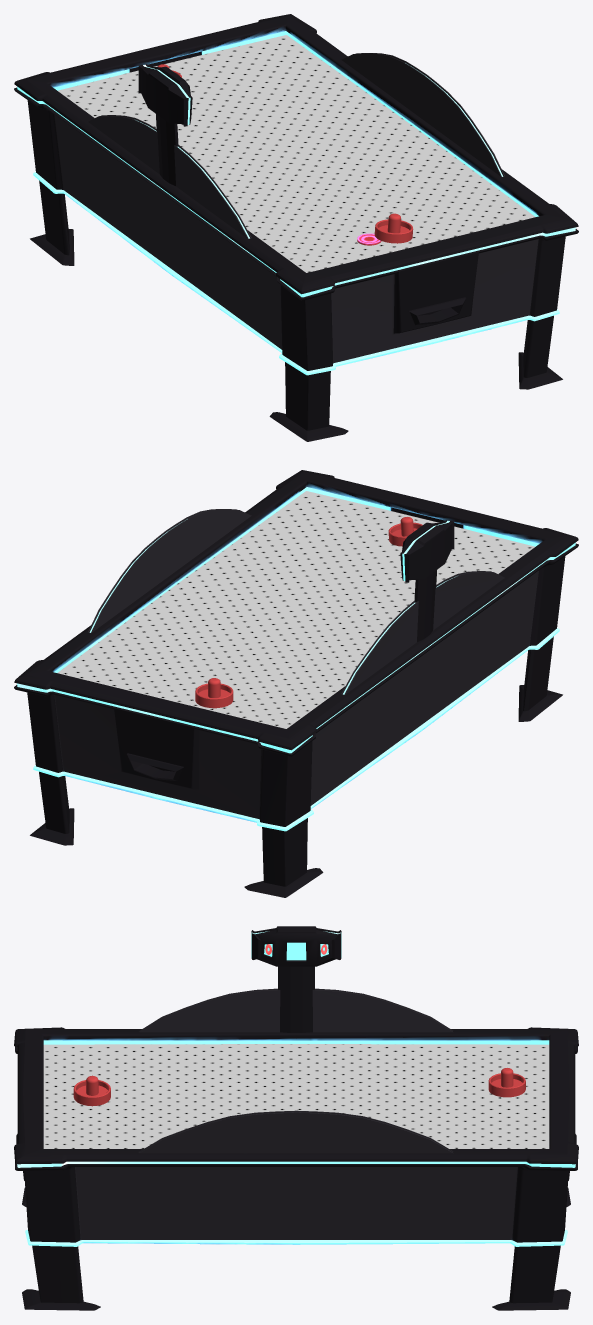
The model's file is air hocky_.fbx.
3 renders of one model, top to bottom at view 1: azimuth 30°, elevation 25°; view 2: azimuth 150°, elevation 25°; view 3: azimuth 270°, elevation 25°, orthographic. The views are drawn at different scales.
Visible parts, largest first — view 1: defaultMaterial; view 2: defaultMaterial; view 3: defaultMaterial.
Part boxes in pixels (box(x1,y1,x2,y2)): defaultMaterial: box(14, 14, 578, 441); defaultMaterial: box(14, 470, 578, 897); defaultMaterial: box(14, 926, 578, 1310).
Size of the model in its own units: 497 by 450 by 887.
Materials: 1 (1 with a texture image).
